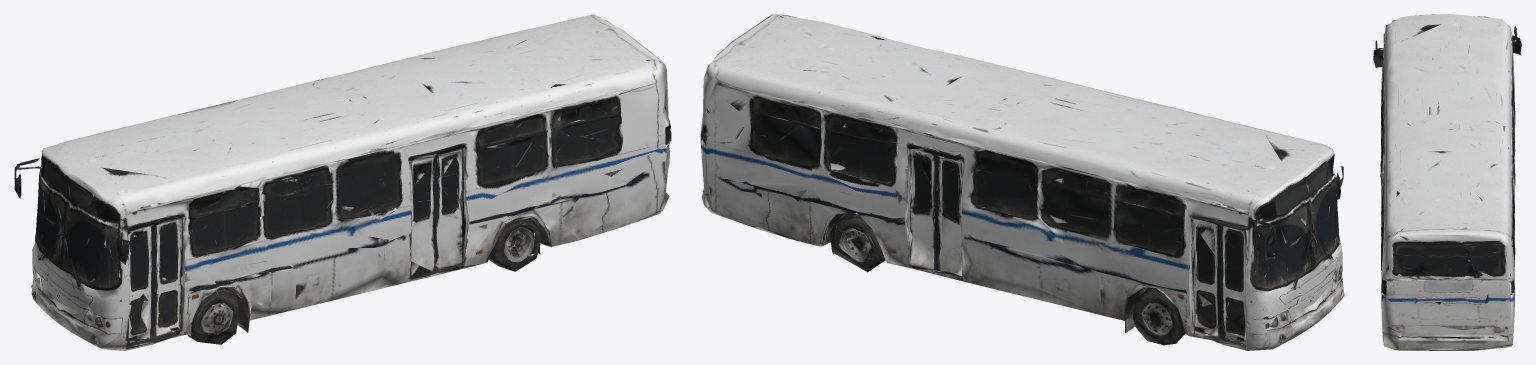
File: bus.glb
3 renders of one model, left to right at view 1: azimuth 30°, elevation 25°; view 2: azimuth 150°, elevation 25°; view 3: azimuth 270°, elevation 25°, orthographic. The views are drawn at different scales.
Size of the model in its own units: 1.9 by 0.5406 by 0.5282.
Materials: 1 (1 with a texture image).
